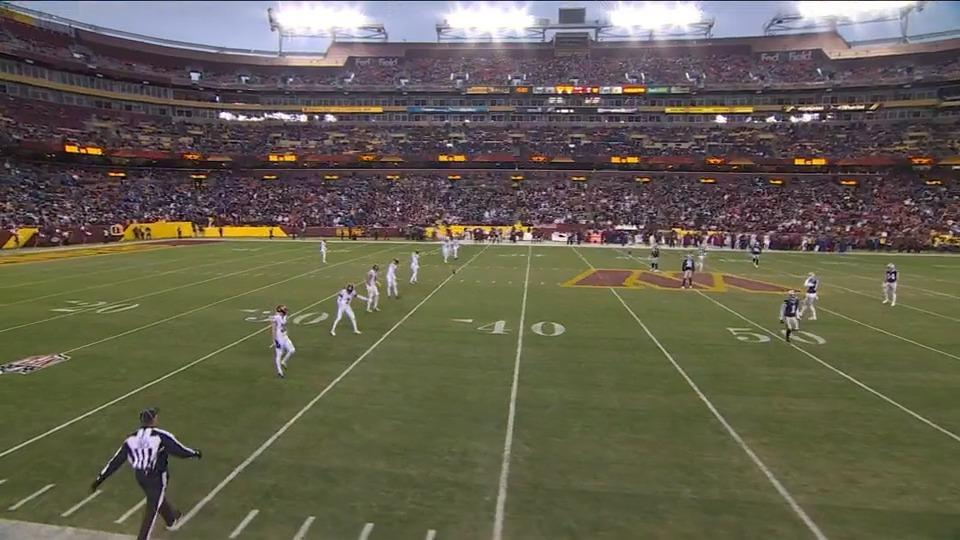20L: (48, 299, 140, 315)
30L: (239, 306, 329, 325)
40L: (451, 318, 566, 336)
50: (727, 326, 826, 345)
